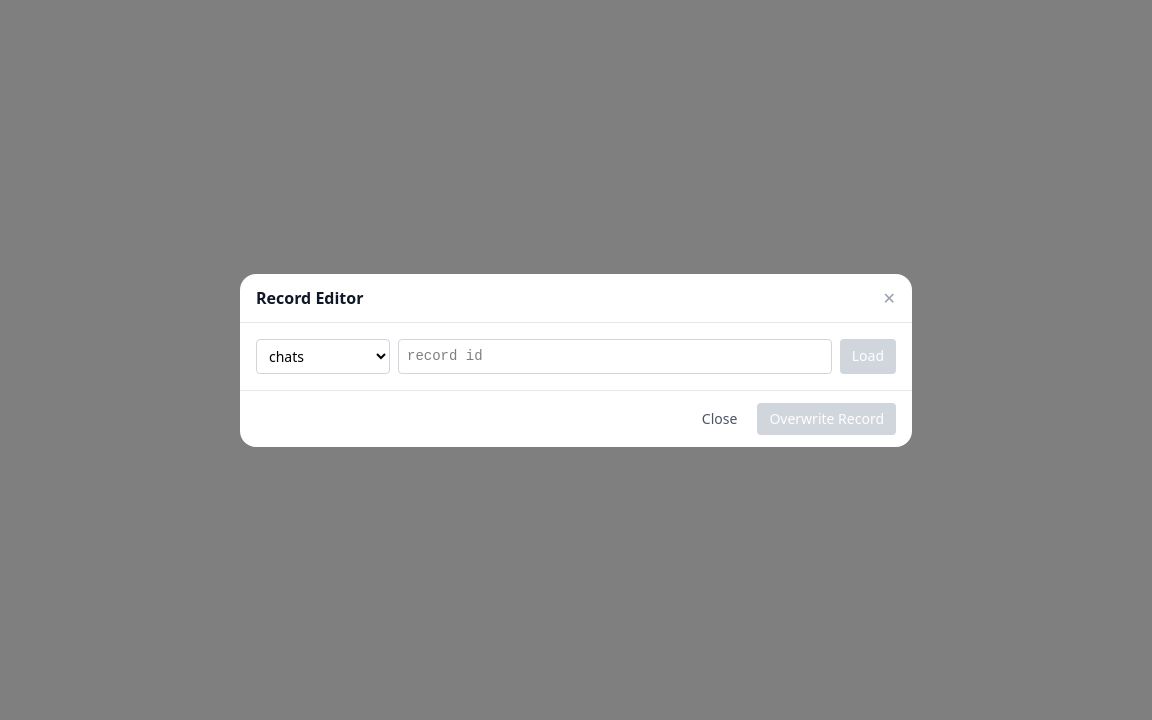
AdminRecordEditorModal › loads and pretty-prints the record JSON
Type "chat_1" into the field with placeholder "record id" at x=615, y=356, box [398,338,832,374]
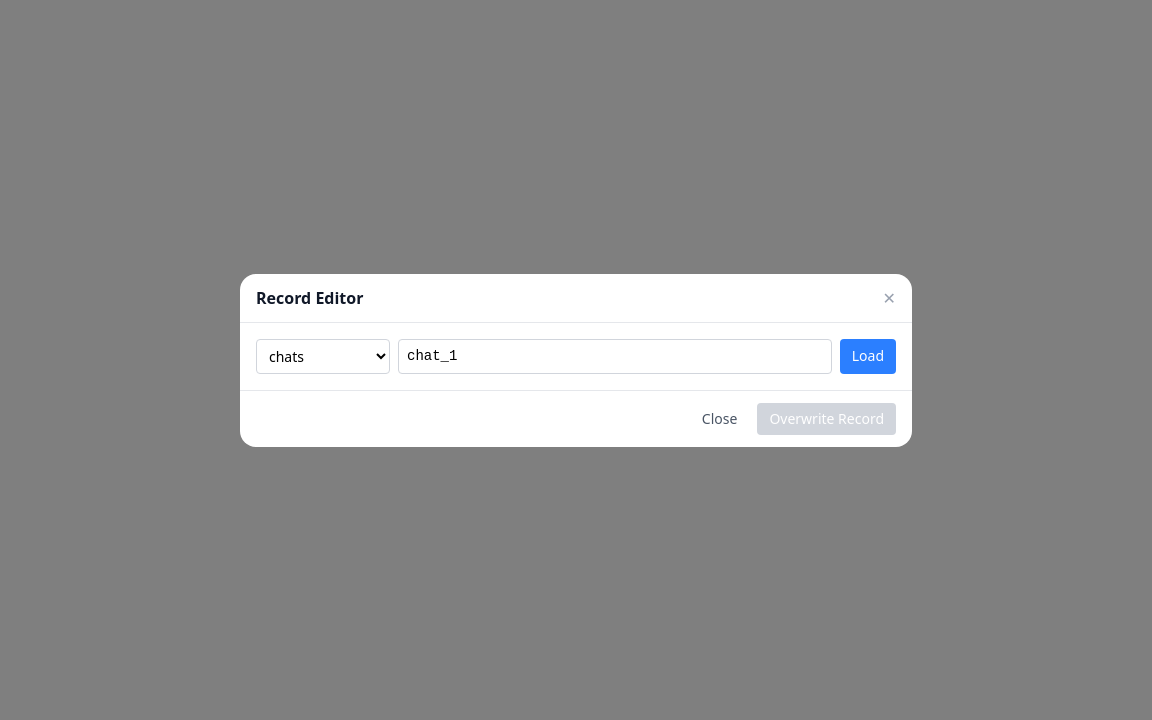
Click the button "Load" at x=868, y=356, box [840,338,896,374]
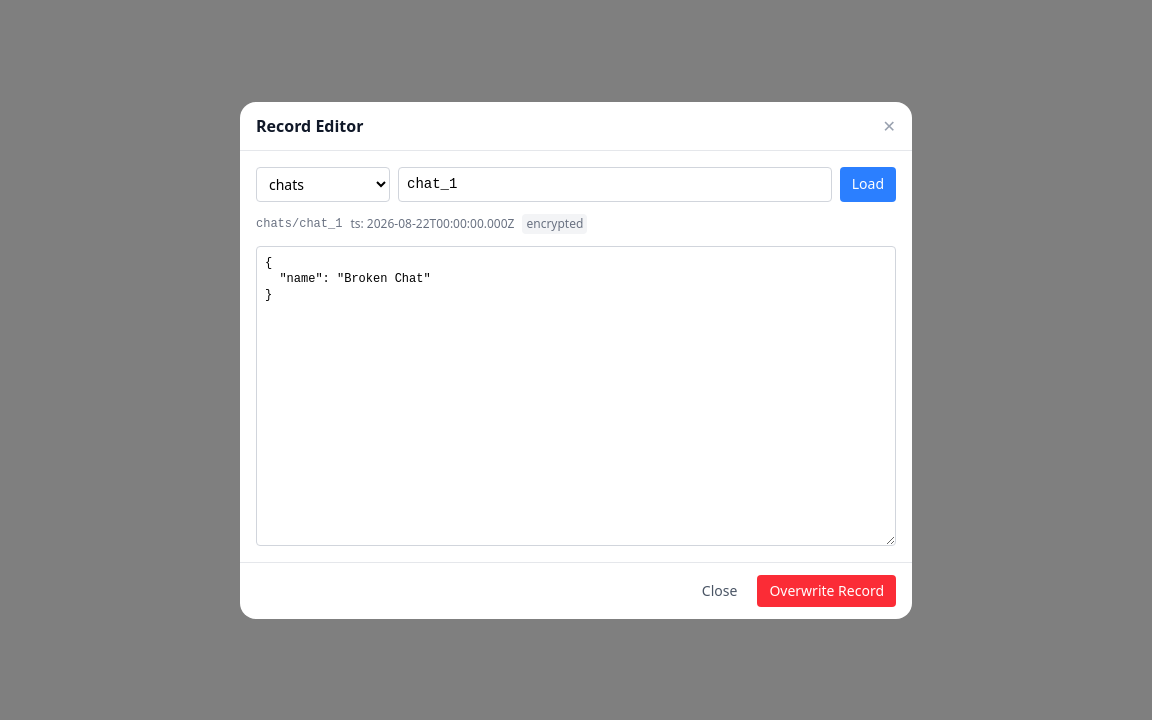
expect the text box is shown: met, box [256,246,896,546]
expect the text "encrypted" is shown: met, box [522,214,587,234]
